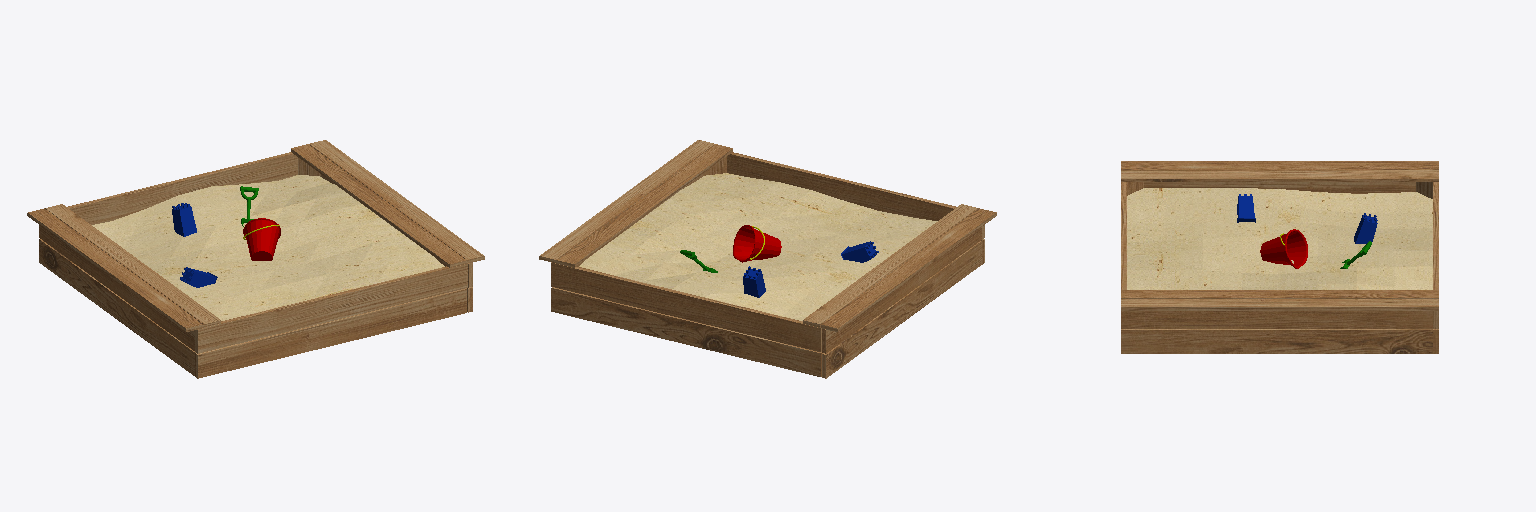
3 renders of one model, left to right at view 1: azimuth 30°, elevation 25°; view 2: azimuth 150°, elevation 25°; view 3: azimuth 270°, elevation 25°, orthographic.
Visible parts, largest first — view 1: sand_Plane, Cube.008_Cube.009, Cube_Cube.001, Cube.001_Cube.002, Cube.007_Cube.008, Cube.005_Cube.006, Cube.004_Cube.005, bucket.001_Plane.006, Plane.001_Plane.005; view 2: sand_Plane, Cube.008_Cube.009, Cube.007_Cube.008, Cube.006_Cube.007, Cube_Cube.001, Cube.005_Cube.006, Cube.004_Cube.005, bucket.001_Plane.006, Plane.001_Plane.005, Plane_Plane.003; view 3: sand_Plane, Cube.008_Cube.009, Cube.002_Cube.003, Cube.003_Cube.004, Cube.004_Cube.005, bucket.001_Plane.006, Cube.007_Cube.008, Cube_Cube.001.
Part boxes in pixels (x1,y1,x2,y2): sand_Plane: (92,175,444,320); Cube.008_Cube.009: (27,140,484,331); Cube_Cube.001: (195,264,467,353); Cube.001_Cube.002: (195,288,466,378); Cube.007_Cube.008: (67,152,297,224); Cube.005_Cube.006: (39,239,195,375); Cube.004_Cube.005: (39,225,194,350); bucket.001_Plane.006: (243,218,280,260); Plane.001_Plane.005: (172,203,196,236); sand_Plane: (579,173,937,320); Cube.008_Cube.009: (539,140,996,331); Cube.007_Cube.008: (551,262,821,351); Cube.006_Cube.007: (551,287,821,376); Cube_Cube.001: (727,152,984,239); Cube.005_Cube.006: (822,241,981,378); Cube.004_Cube.005: (822,227,981,353); bucket.001_Plane.006: (733,225,781,262); Plane.001_Plane.005: (743,266,765,297); Plane_Plane.003: (841,241,878,262); sand_Plane: (1127,188,1432,289); Cube.008_Cube.009: (1121,161,1438,310); Cube.002_Cube.003: (1121,329,1432,353); Cube.003_Cube.004: (1121,311,1432,328); Cube.004_Cube.005: (1144,182,1415,193); bucket.001_Plane.006: (1260,229,1307,268); Cube.007_Cube.008: (1433,182,1438,328); Cube_Cube.001: (1121,182,1126,289).
Size of the model in its own units: 130 by 26.03 by 120.
6 materials, 1 textured.